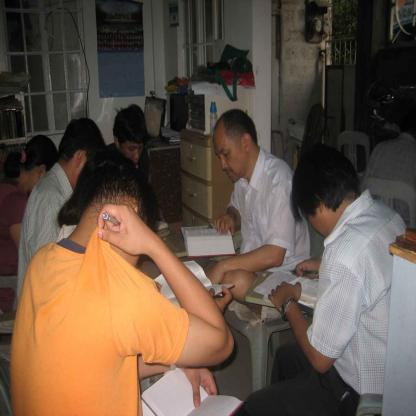face: (214, 136, 246, 182), (304, 203, 339, 238), (123, 141, 145, 169)
